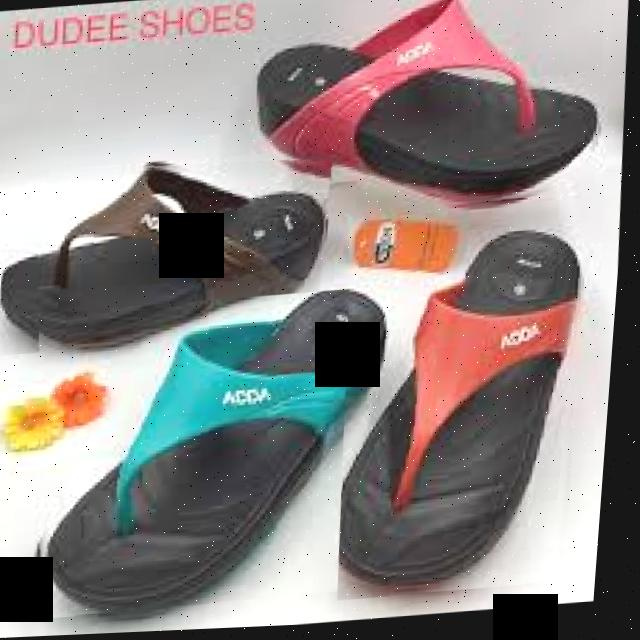shoe: (26, 289, 403, 621), (334, 227, 603, 604), (247, 0, 613, 230), (0, 148, 342, 356)
